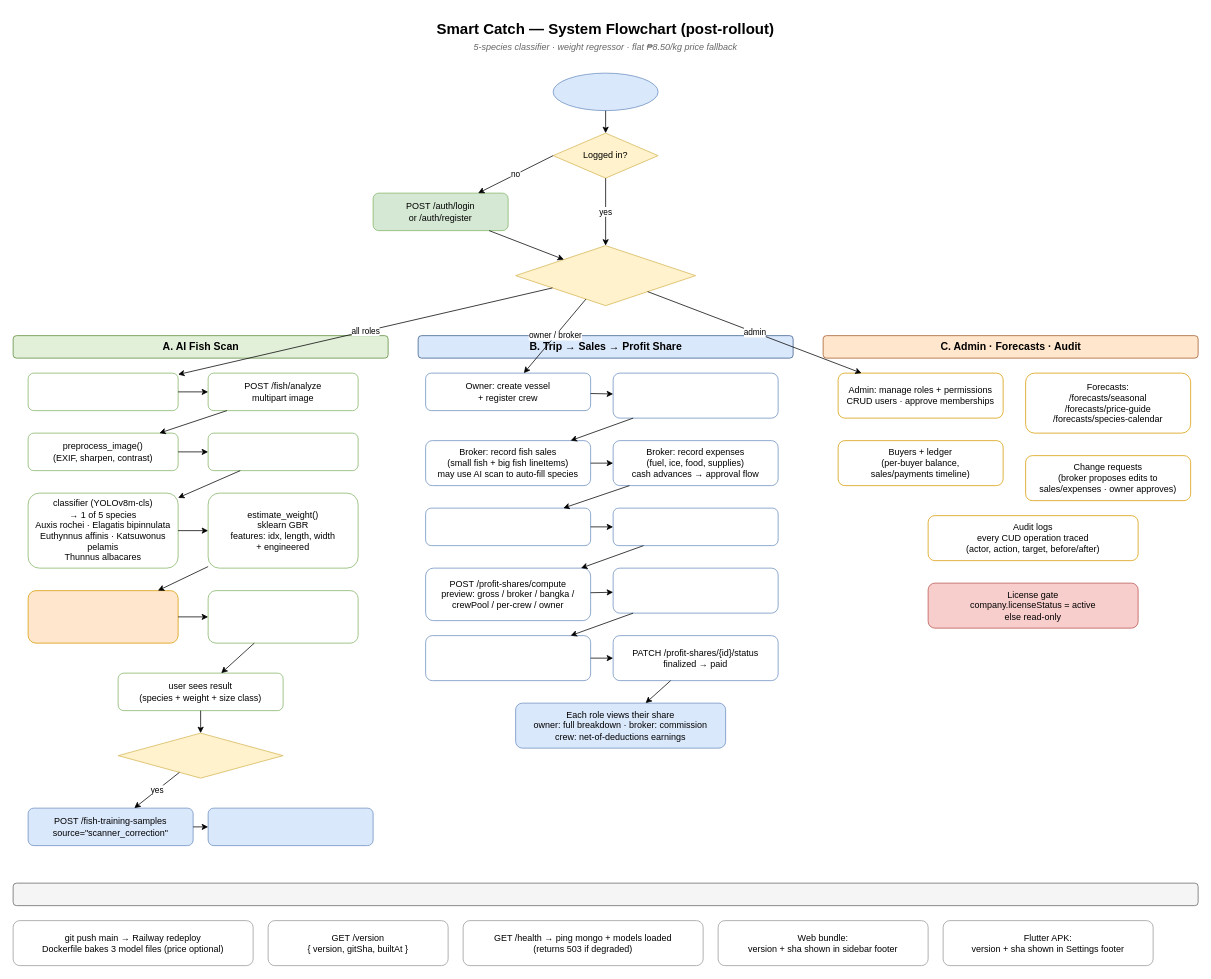
Image size: 1211x979. Some labels were removed from this diagram. Each missing label, with the centre of its shape:
(later) admin retrains classifier auto_train.py + evaluate scripts: the point at 290,826
Build / deploy / observability: the point at 605,894
Capture image (camera or gallery): the point at 102,391
detector (YOLOv8) → bounding boxes: the point at 282,451
estimate_price() model present? predict. else weight × ₱8.50/kg: the point at 102,616
Owner: create trip crewType (Pakura / Tongko) assign captain + crew: the point at 695,395
Owner: PATCH /trips/{id} status: completed: the point at 508,526
Owner: PATCH /trips/{id}/approve-sales: the point at 695,526
PATCH /profit-shares/{id}/status draft → finalized: the point at 508,658
POST /profit-shares/generate persists, status=draft: the point at 695,590
Role? (super / admin / owner / broker / crew / government): the point at 605,275
save fish_analyses (image, detections, weights, prices): the point at 282,616
user corrects species?: the point at 200,755
User opens app: the point at 605,91
